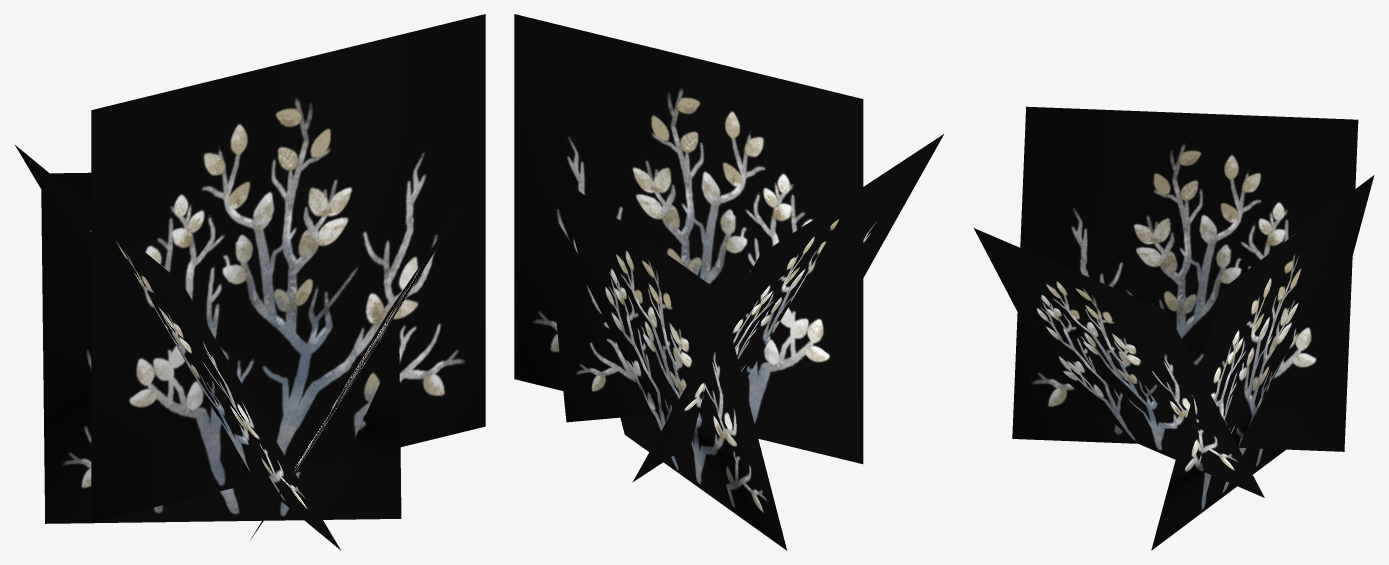
File: P_BushSnowDead01.obj
The picture shows the model from 3 angles, left to right: view 1: azimuth 30°, elevation 25°; view 2: azimuth 150°, elevation 25°; view 3: azimuth 270°, elevation 25°; orthographic projection. The views are drawn at different scales.
Size of the model in its own units: 2.48 by 2.8 by 2.46.
